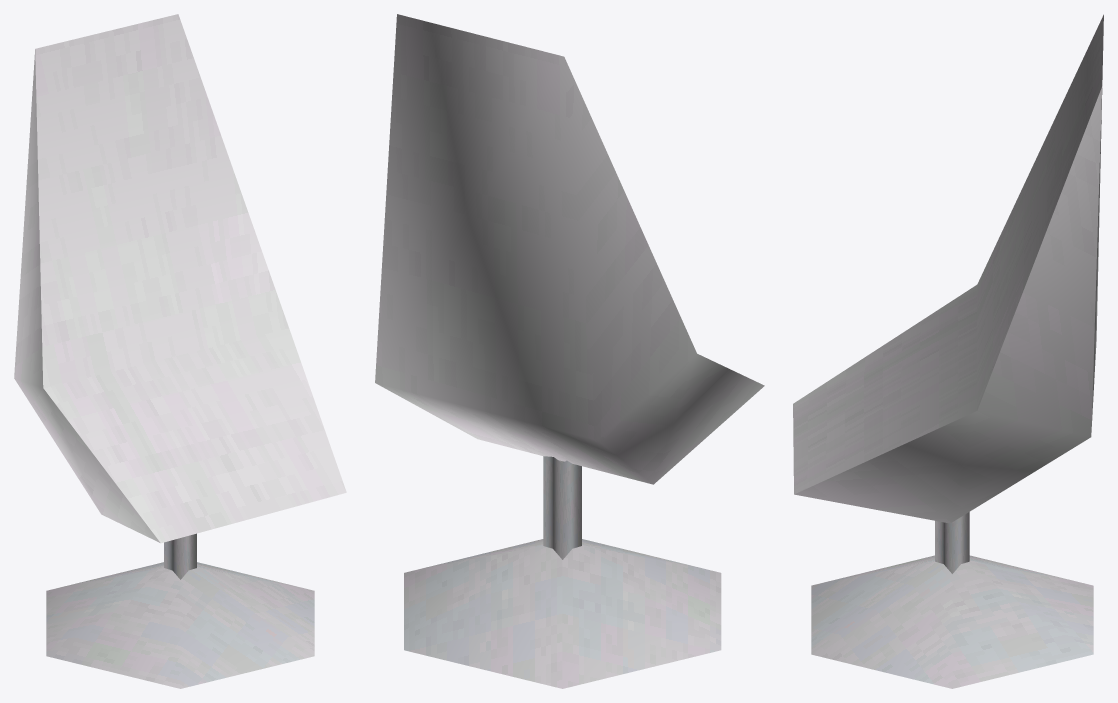
File: frn_all_mdrn_chair_s01_l3.fbx
3 renders of one model, left to right at view 1: azimuth 30°, elevation 25°; view 2: azimuth 150°, elevation 25°; view 3: azimuth 270°, elevation 25°, orthographic. The views are drawn at different scales.
Visible parts, largest first — view 1: mesh_node; view 2: mesh_node; view 3: mesh_node.
Boxes of the visible parts, box(x1,y1,x2,y2) form: mesh_node: box(14, 14, 346, 688); mesh_node: box(375, 14, 764, 688); mesh_node: box(793, 14, 1103, 688).
Bounding box in the file's own units: 0.7289 × 1.4 × 0.6951.
